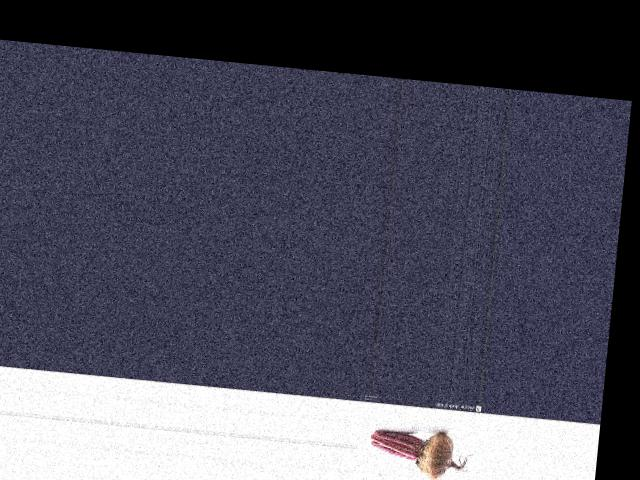beet: (367, 426, 475, 480)
